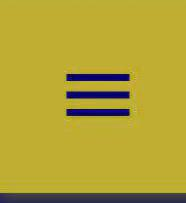ImgButton: (1, 1, 185, 202)
